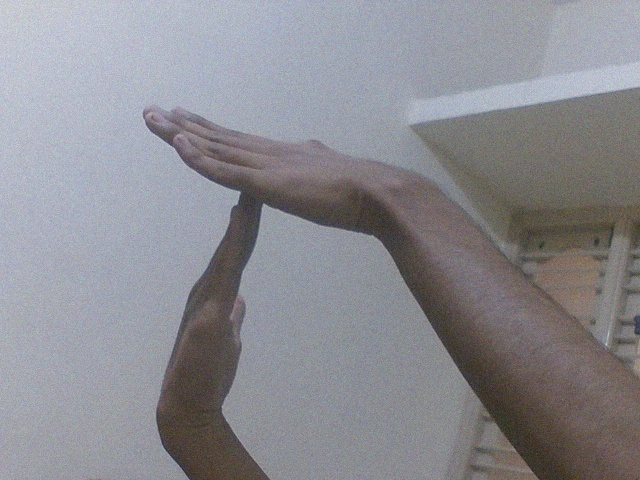hand: (141, 99, 402, 233), (151, 191, 267, 440)
